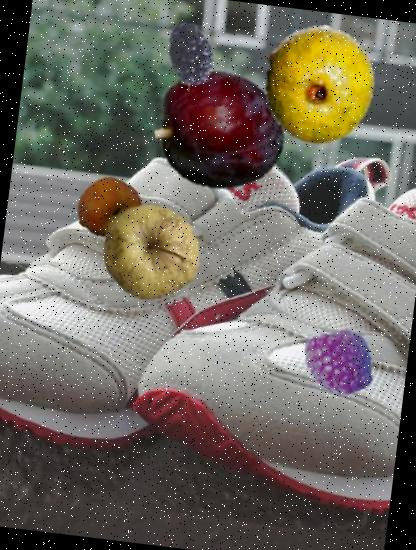Apple: (96, 199, 206, 308)
Guava: (252, 18, 386, 152)
Mulberry: (157, 14, 237, 94)
Peach: (74, 174, 145, 245)
Plum: (147, 58, 292, 203)
Raspberry: (302, 324, 378, 400)
